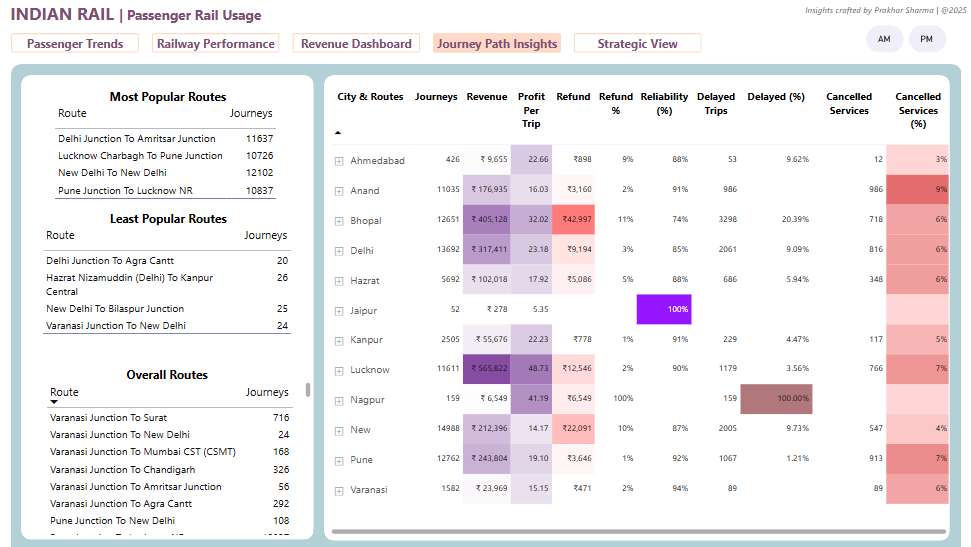

This screenshot's page, from the dashboard's own definition file:
{"tool":"powerbi","page":{"name":"Journey Path Insights","canvas":[1536,864],"ordinal":3},"visuals":[{"type":"shape","box":[20,103.3,1493.3,760],"z":0},{"type":"shape","box":[511.7,121.7,983.3,731.7],"z":1000},{"type":"textbox","box":[13.7,0.7,900,60.5],"z":2000},{"type":"advancedSlicerVisual","fields":{"Values":["Train Dataset.Last Characters"]},"box":[1358.2,38,136.5,53.6],"z":3000},{"type":"shape","box":[36.7,121.7,460,730],"z":4000},{"type":"tableEx","fields":{"Values":["Train Dataset.Route","Train Dataset.Transaction ID"]},"box":[83.8,160,413.8,197.5],"z":5000},{"type":"textbox","box":[36.2,136.2,461.2,75],"z":6000},{"type":"textbox","box":[36,328,462,50],"z":7000},{"type":"tableEx","fields":{"Values":["Train Dataset.Route","Train Dataset.Transaction ID"]},"box":[64,352,416,224],"z":8000},{"type":"textbox","box":[35,573.3,461.7,50],"z":9000},{"type":"tableEx","fields":{"Values":["Train Dataset.Route","Train Dataset.Transaction ID"]},"box":[70,598,426,250],"z":10000},{"type":"pivotTable","fields":{"Rows":["Train Dataset.City","Train Dataset.Route"],"Values":["CountNonNull(Train Dataset.Month Name (DOJ))","Train Dataset.Total Revenue","Avg(Train Dataset.Price)","Train Dataset.Refund Amount","Train Dataset.Refund %","Train Dataset.Reliability  (%)","Train Dataset.Delayed Trips Counting","Train Dataset.Delayed %","Train Dataset.Cancelled Trips Count","Train Dataset.Cancelled Trips %"]},"box":[518,126,980,722],"z":11000},{"type":"pageNavigator","box":[20,55.7,1088.6,31.4],"z":12000},{"type":"textbox","box":[1263.2,5.2,269.6,46.7],"z":13000}]}

Visuals, with their boxes in screenshot pixels (x1, y1, x2, y2), scaled from the page's 1536x864 canvas onto the 971x547 screenshot:
shape: 13/65/957/546
shape: 323/77/945/540
textbox: 9/0/578/39
advancedSlicerVisual - Train Dataset.Last Characters: 859/24/945/58
shape: 23/77/314/539
tableEx - Train Dataset.Route x Train Dataset.Transaction ID: 53/101/315/226
textbox: 23/86/314/134
textbox: 23/208/315/239
tableEx - Train Dataset.Route x Train Dataset.Transaction ID: 40/223/303/365
textbox: 22/363/314/395
tableEx - Train Dataset.Route x Train Dataset.Transaction ID: 44/379/314/537
pivotTable - Train Dataset.City x Train Dataset.Route: 327/80/947/537
pageNavigator: 13/35/701/55
textbox: 799/3/969/33
